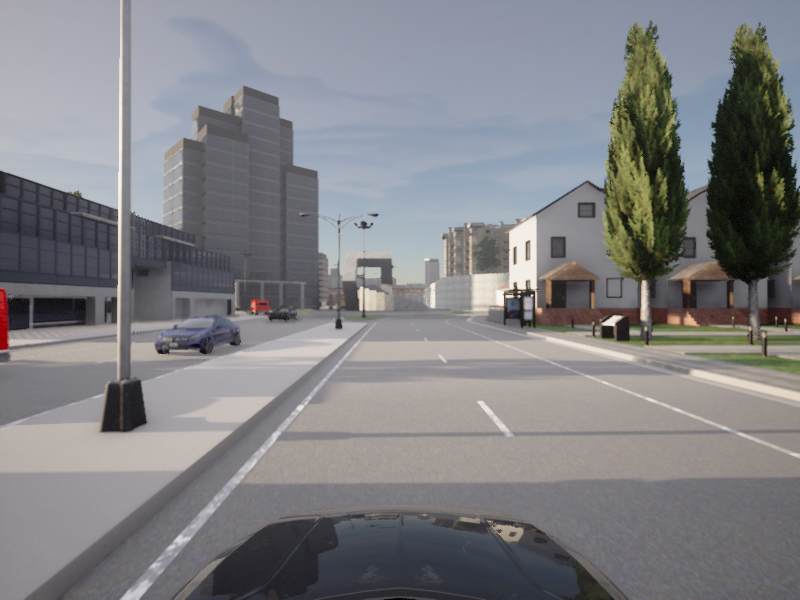vehicle: (148, 314, 245, 357), (0, 266, 18, 441), (264, 305, 299, 322)
